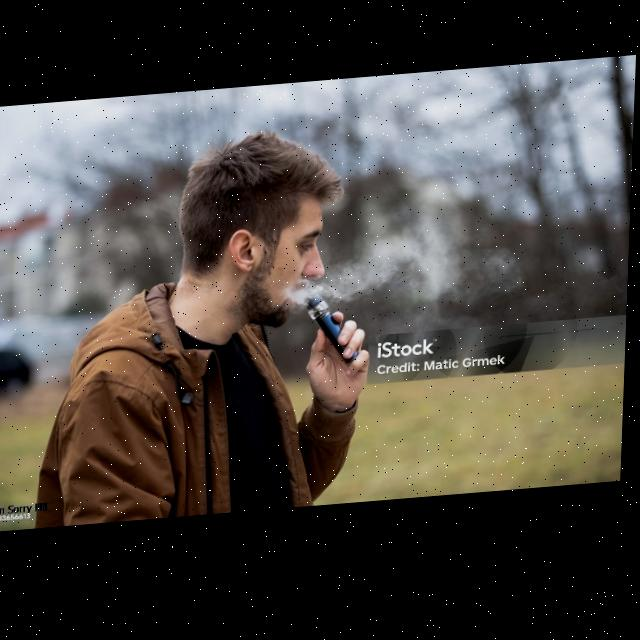vape: (303, 293, 364, 375)
